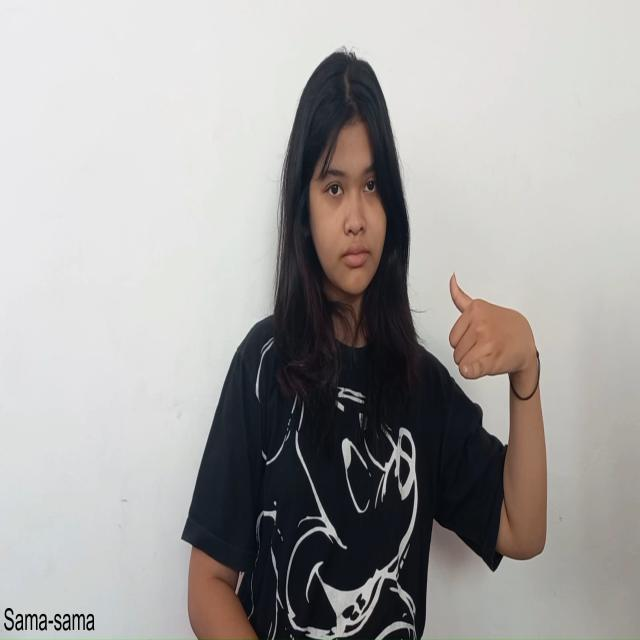Sama-sama -BISINDO-: (447, 272, 541, 383)
